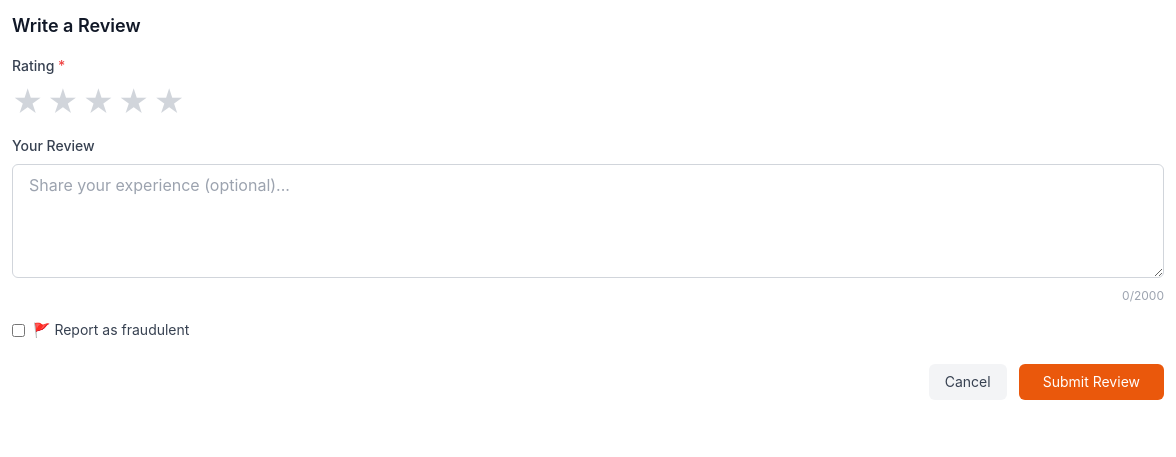
Test case: ReviewForm › Review Text › shows fraud-specific placeholder when fraud report is checked
The image size is (1176, 457).
What coordinates should you click on to do the following:
click the checkbox
I would click on:
 (18, 330)
Its box is [12,324,25,336].
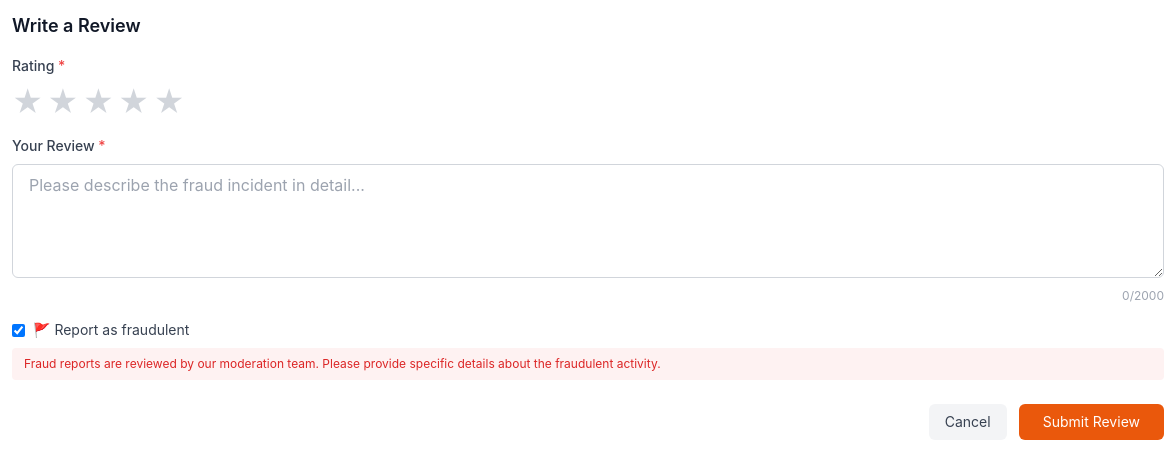
Now the text box with placeholder "Please describe the fraud incident in detail..." is shown, box [12,164,1164,278]
